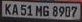character: (20, 4, 27, 16), (42, 5, 49, 17), (35, 5, 42, 16), (5, 3, 11, 15), (12, 3, 18, 15), (27, 4, 33, 16), (58, 5, 64, 17), (71, 5, 77, 17), (52, 5, 58, 16), (65, 6, 71, 17)
